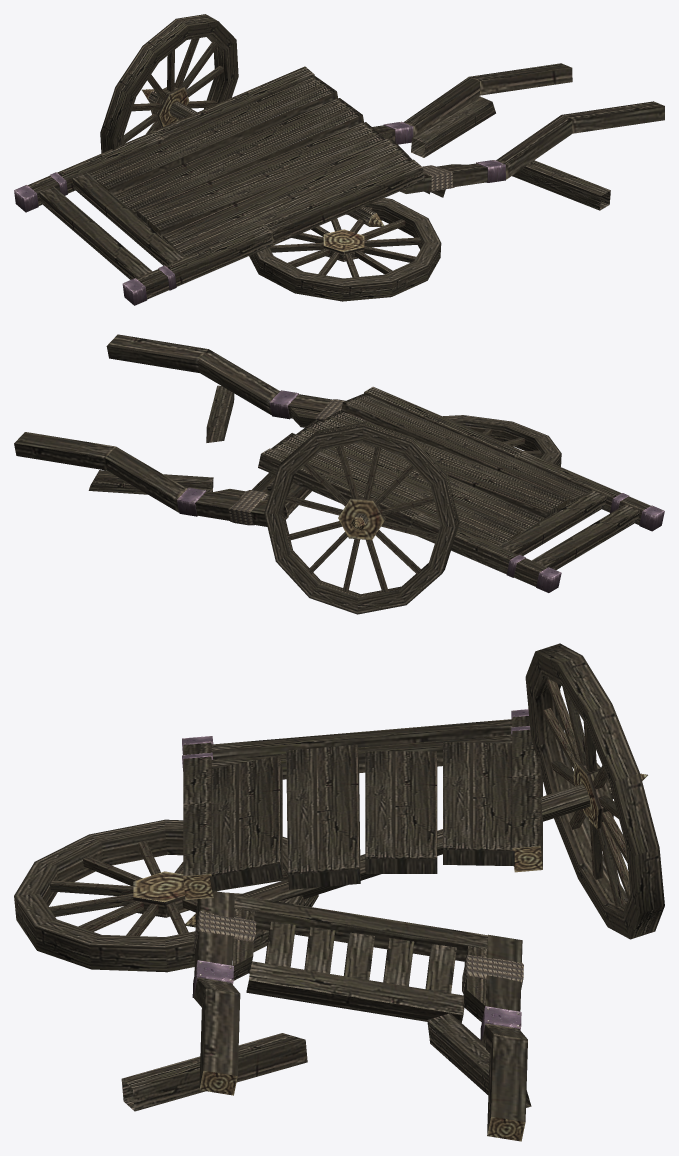
Rendered from Handcart02_Parts_LostTemple_001.FBX.
3 renders of one model, top to bottom at view 1: azimuth 30°, elevation 25°; view 2: azimuth 150°, elevation 25°; view 3: azimuth 270°, elevation 25°, orthographic. The views are drawn at different scales.
Visible parts, largest first — view 1: Handcart02_Parts_LostTemple_LV002, Handcart02_Parts_LostTemple_LV007 (×2), Handcart02_Parts_LostTemple_LV001, Handcart02_Parts_LostTemple_LV005, Handcart02_Parts_LostTemple_LV004; view 2: Handcart02_Parts_LostTemple_LV002, Handcart02_Parts_LostTemple_LV007 (×2), Handcart02_Parts_LostTemple_LV001, Handcart02_Parts_LostTemple_LV004, Handcart02_Parts_LostTemple_LV005; view 3: Handcart02_Parts_LostTemple_LV002, Handcart02_Parts_LostTemple_LV007 (×2), Handcart02_Parts_LostTemple_LV001, Handcart02_Parts_LostTemple_LV003, Handcart02_Parts_LostTemple_LV005, Handcart02_Parts_LostTemple_LV004.
Boxes of the visible parts, x1,y1,x2,y2 form: Handcart02_Parts_LostTemple_LV002: (14,66,424,305); Handcart02_Parts_LostTemple_LV007 (×2): (100,14,441,301); Handcart02_Parts_LostTemple_LV001: (372,63,664,193); Handcart02_Parts_LostTemple_LV005: (512,160,610,210); Handcart02_Parts_LostTemple_LV004: (411,96,495,157); Handcart02_Parts_LostTemple_LV002: (258,386,664,592); Handcart02_Parts_LostTemple_LV007 (×2): (264,415,561,614); Handcart02_Parts_LostTemple_LV001: (14,334,345,526); Handcart02_Parts_LostTemple_LV004: (88,470,213,494); Handcart02_Parts_LostTemple_LV005: (206,385,234,442); Handcart02_Parts_LostTemple_LV002: (182,709,542,900); Handcart02_Parts_LostTemple_LV007 (×2): (14,643,664,972); Handcart02_Parts_LostTemple_LV001: (192,891,527,1141); Handcart02_Parts_LostTemple_LV003: (246,921,464,1022); Handcart02_Parts_LostTemple_LV005: (121,1033,307,1111); Handcart02_Parts_LostTemple_LV004: (427,1013,531,1107).
Size of the model in its own units: 555 by 173 by 371.
1 material, 1 textured.
